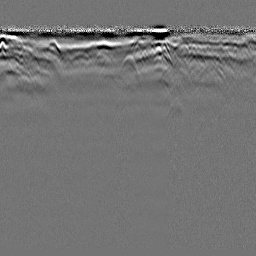cavity: (118, 52, 139, 77)
